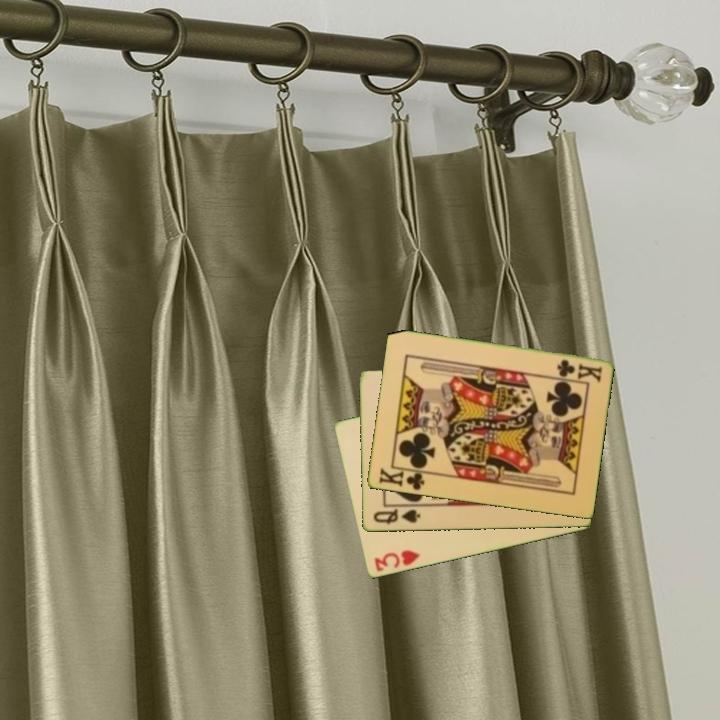3h: (370, 547, 423, 575)
Kc: (375, 464, 431, 493), (553, 356, 605, 384)
Qs: (369, 506, 423, 527)
